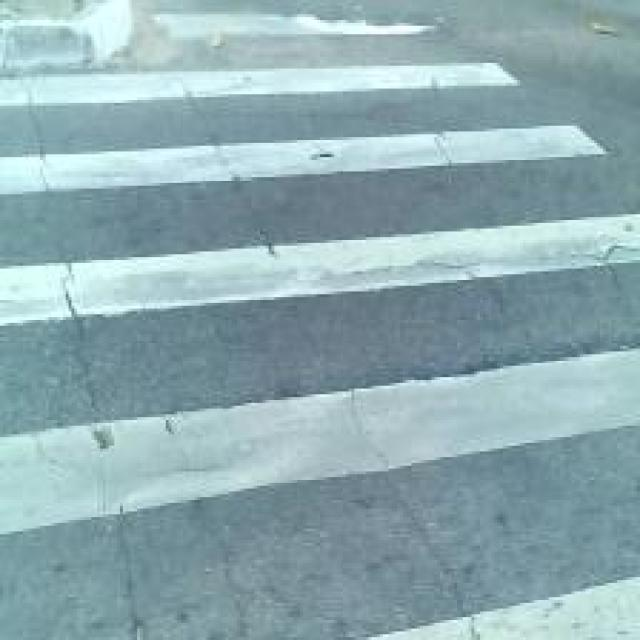walk-crossing: (5, 36, 638, 640)
